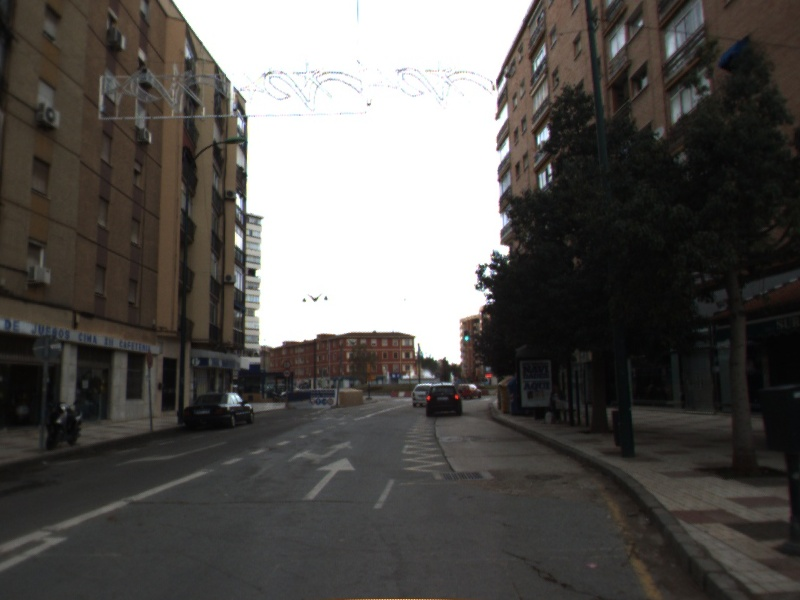STRAIGHT: (299, 455, 357, 502)
STRAIGHT_LEFT: (286, 438, 355, 466)
